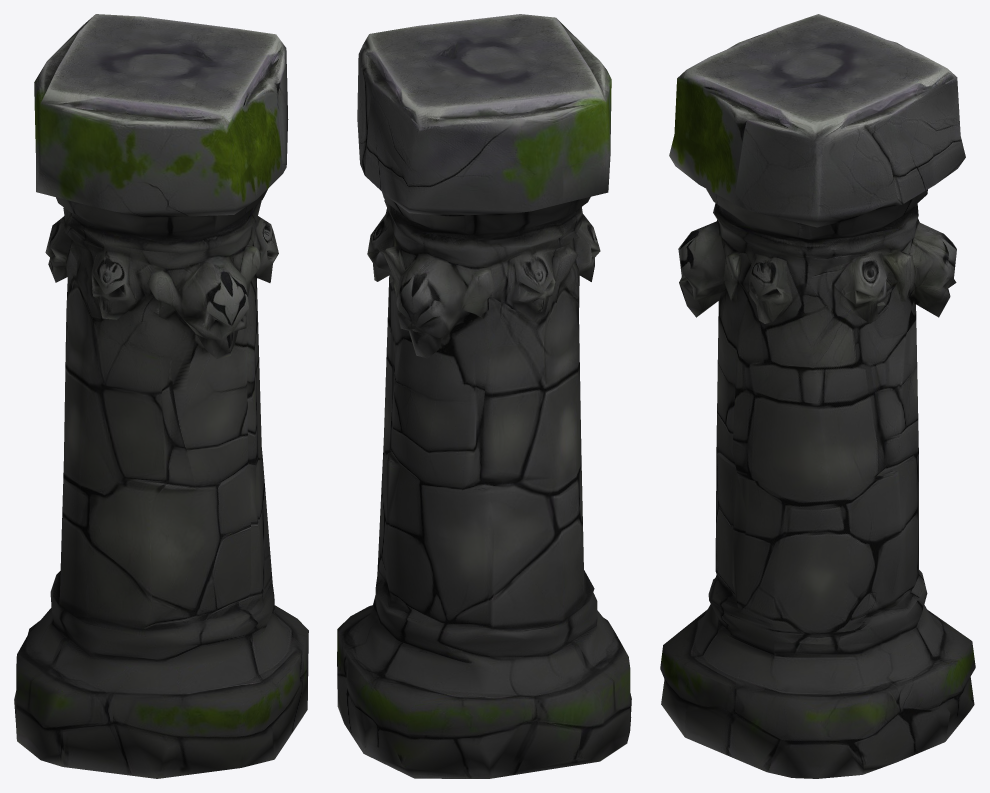
File: prop-gate-column.glb
3 renders of one model, left to right at view 1: azimuth 30°, elevation 25°; view 2: azimuth 150°, elevation 25°; view 3: azimuth 270°, elevation 25°, orthographic.
Size of the model in its own units: 0.8501 by 2 by 0.8826.
1 material, 1 textured.
